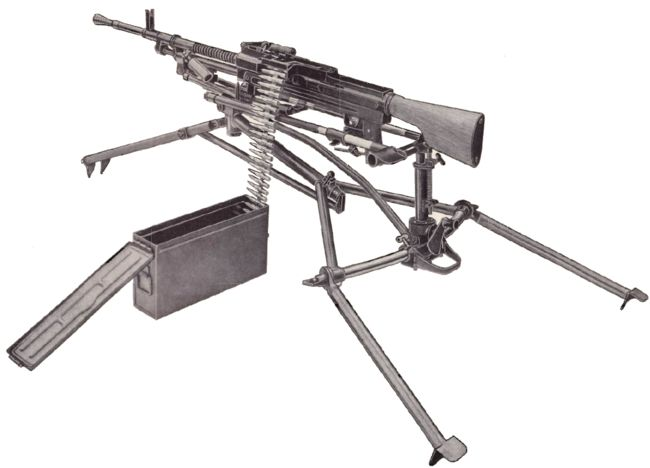rifle: (78, 1, 592, 463)
